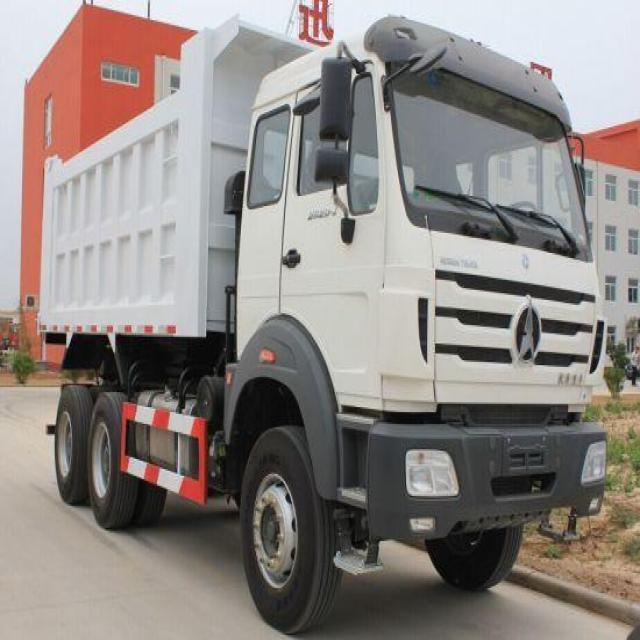uncovered: (49, 28, 524, 610)
